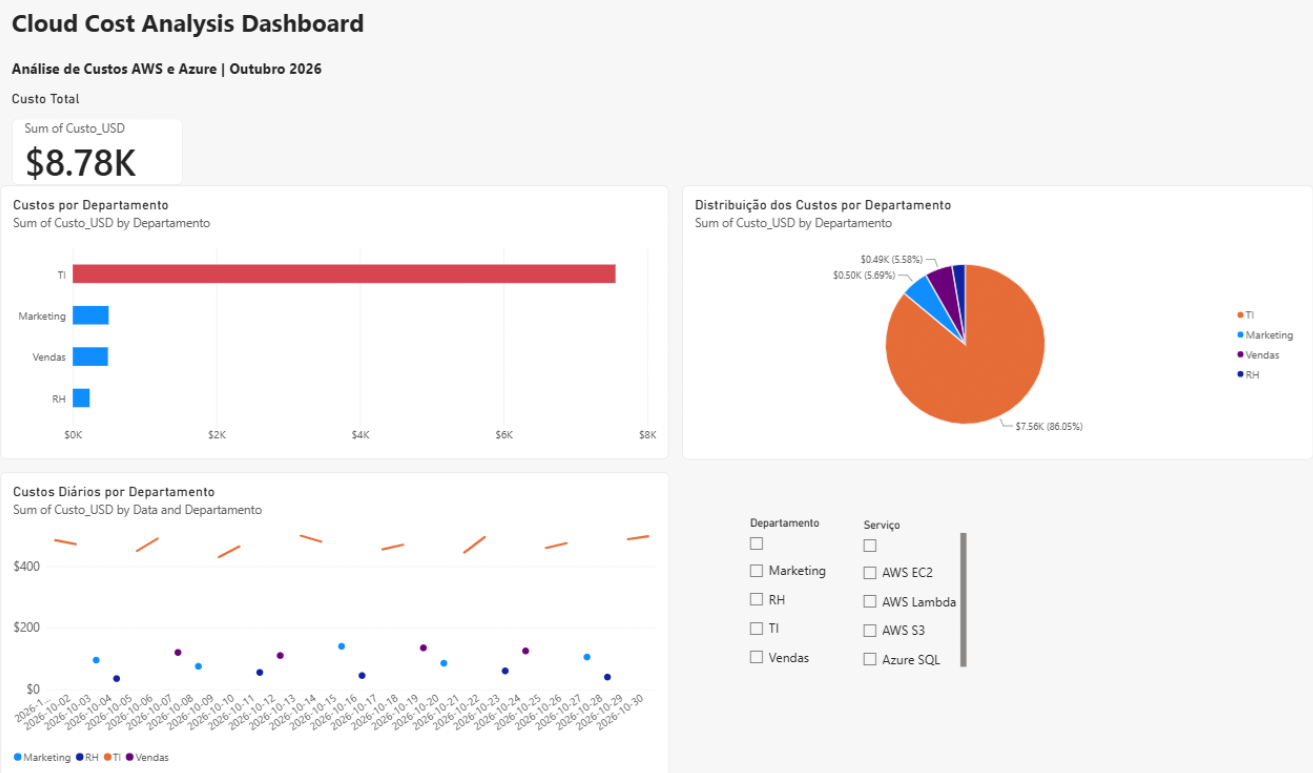

What the dashboard file says about the page in this screenshot:
{"tool":"powerbi","page":{"name":"Page 1","canvas":[1920,1080],"ordinal":0},"visuals":[{"type":"clusteredBarChart","title":"Custos por Departamento","fields":{"Category":["Data,Serviço,Departamento,Custo_USD.Departamento"],"Y":["Sum(Data,Serviço,Departamento,Custo_USD.Custo_USD)"]},"box":[9.7,293.1,884.4,362.2],"z":0},{"type":"lineChart","title":"Custos Diários por Departamento","fields":{"Category":["Data,Serviço,Departamento,Custo_USD.Data"],"Series":["Data,Serviço,Departamento,Custo_USD.Departamento"],"Y":["Sum(Data,Serviço,Departamento,Custo_USD.Custo_USD)"]},"box":[9.7,672.2,884.7,408.3],"z":1000},{"type":"cardVisual","title":"Custo Total","fields":{"Data":["Sum(Data,Serviço,Departamento,Custo_USD.Custo_USD)"]},"box":[25,168.1,226.4,125],"z":2000},{"type":"textbox","box":[24.4,55.6,504.4,71.1],"z":3000},{"type":"textbox","box":[24.4,126.7,504.4,60],"z":4000},{"type":"pieChart","title":"Distribuição dos Custos por Departamento","fields":{"Category":["Data,Serviço,Departamento,Custo_USD.Departamento"],"Y":["Sum(Data,Serviço,Departamento,Custo_USD.Custo_USD)"]},"box":[911.1,293.1,834.7,362.5],"z":5000},{"type":"slicer","fields":{"Values":["Data,Serviço,Departamento,Custo_USD.Departamento"]},"box":[993.1,731.9,118.1,209.7],"z":6000},{"type":"slicer","fields":{"Values":["Data,Serviço,Departamento,Custo_USD.Serviço"]},"box":[1143.1,734.7,144.4,206.9],"z":7000}]}

Visuals, with their boxes on the page's 1920x1080 design canvas (x1, y1, x2, y2). These are canvas units, not pixel positions in the 1313x773 screenshot, which may show the page scaled, cropped or inside an application window:
"Custos por Departamento" clusteredBarChart: pyautogui.locateOnScreen(10, 293, 894, 655)
"Custos Diários por Departamento" lineChart: pyautogui.locateOnScreen(10, 672, 894, 1080)
"Custo Total" cardVisual: pyautogui.locateOnScreen(25, 168, 251, 293)
textbox: pyautogui.locateOnScreen(24, 56, 529, 127)
textbox: pyautogui.locateOnScreen(24, 127, 529, 187)
"Distribuição dos Custos por Departamento" pieChart: pyautogui.locateOnScreen(911, 293, 1746, 656)
slicer - Data,Serviço,Departamento,Custo_USD.Departamento: pyautogui.locateOnScreen(993, 732, 1111, 942)
slicer - Data,Serviço,Departamento,Custo_USD.Serviço: pyautogui.locateOnScreen(1143, 735, 1288, 942)
